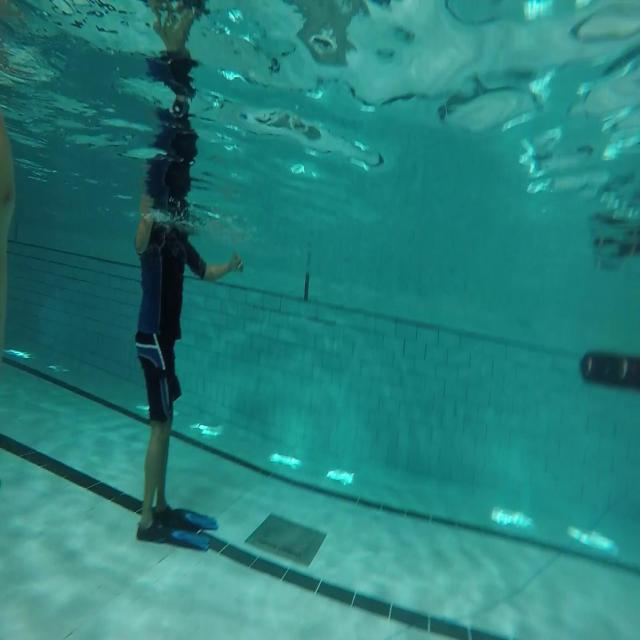human: (133, 154, 244, 545)
